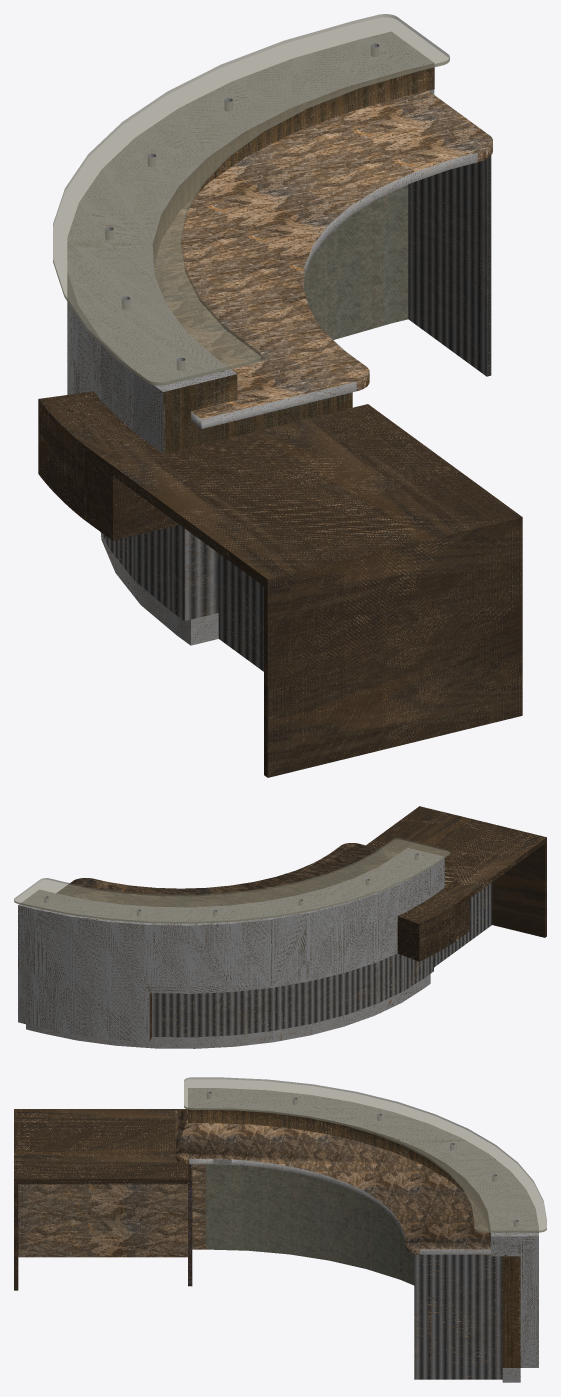
The model's file is receptiondesk_1.dae.
3 views of the same model, one above another, from view 1: azimuth 30°, elevation 25°; view 2: azimuth 150°, elevation 25°; view 3: azimuth 270°, elevation 25° (orthographic). The views are drawn at different scales.
Visible parts, largest first — view 1: SketchUp (×12); view 2: SketchUp (×7); view 3: SketchUp (×11).
Part boxes in pixels (left/top/right/bottom): SketchUp (×12): left=38, top=14, right=522, bottom=777; SketchUp (×7): left=14, top=806, right=546, bottom=1048; SketchUp (×11): left=14, top=1077, right=546, bottom=1379.
Size of the model in its own units: 96 by 132 by 42.
